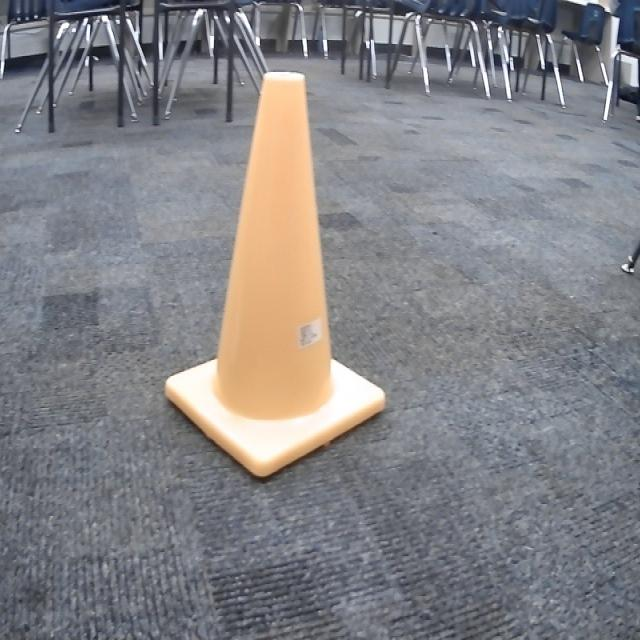cone: (162, 68, 390, 489)
